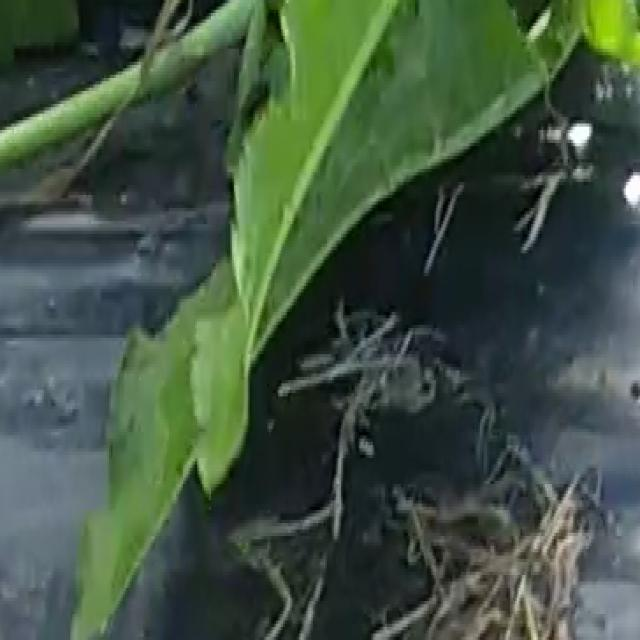organic waste: (82, 0, 566, 604)
